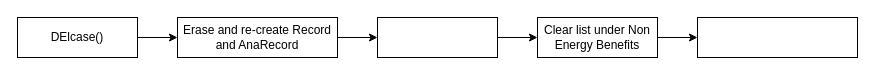
Image size: 875x75. Some labels were removed from this diagram. The centre of each missing label's shape, as x and y in pixels:
"Clear cases under summary" goes at [437,37].
"Clear list under Discount Rate Manager" goes at [777,37].
